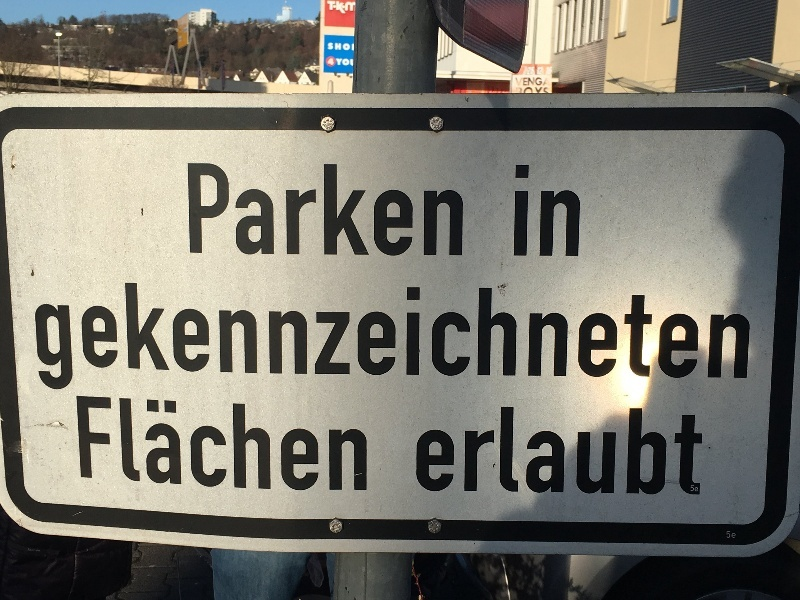text: (49, 283, 64, 392), (65, 283, 80, 392), (81, 283, 96, 392), (97, 283, 112, 392), (113, 283, 128, 392), (129, 283, 144, 392), (145, 283, 160, 392), (161, 283, 176, 392), (177, 283, 192, 392), (193, 283, 208, 392), (209, 283, 224, 392), (225, 283, 240, 392), (241, 283, 256, 392), (257, 283, 272, 392), (273, 283, 288, 392), (289, 283, 304, 392), (305, 283, 320, 392), (321, 283, 336, 392), (337, 283, 352, 392), (353, 283, 368, 392), (369, 283, 384, 392), (385, 283, 400, 392), (401, 283, 416, 392), (417, 283, 432, 392), (433, 283, 448, 392), (449, 283, 464, 392), (465, 283, 480, 392), (481, 283, 496, 392), (497, 283, 512, 392), (513, 283, 528, 392), (529, 283, 544, 392), (545, 283, 560, 392), (561, 283, 576, 392), (577, 283, 592, 392), (593, 283, 608, 392), (609, 283, 624, 392), (625, 283, 640, 392), (641, 283, 656, 392), (657, 283, 672, 392), (673, 283, 688, 392), (689, 283, 704, 392), (705, 283, 720, 392), (721, 283, 736, 392), (737, 283, 752, 392), (34, 283, 48, 392), (81, 396, 96, 496), (97, 396, 112, 496), (113, 396, 128, 496), (129, 396, 144, 496), (145, 396, 160, 496), (161, 396, 176, 496), (177, 396, 192, 496), (193, 396, 208, 496), (209, 396, 224, 496), (225, 396, 240, 496), (241, 396, 256, 496), (257, 396, 272, 496), (273, 396, 288, 496), (289, 396, 304, 496), (305, 396, 320, 496), (321, 396, 336, 496), (337, 396, 352, 496), (353, 396, 368, 496), (193, 162, 208, 257), (209, 162, 224, 257), (225, 162, 240, 257), (241, 162, 256, 257), (257, 162, 272, 257), (273, 162, 288, 257), (289, 162, 304, 257), (305, 162, 320, 257), (321, 162, 336, 257), (337, 162, 352, 257), (353, 162, 368, 257), (369, 162, 384, 257), (385, 162, 400, 257), (401, 162, 416, 257), (417, 162, 432, 257), (433, 162, 448, 257), (529, 165, 544, 259), (545, 165, 560, 259), (561, 165, 576, 259), (433, 407, 448, 497), (449, 407, 464, 497), (465, 407, 480, 497), (481, 407, 496, 497), (497, 407, 512, 497), (513, 407, 528, 497), (529, 407, 544, 497), (545, 407, 560, 497), (561, 407, 576, 497), (577, 407, 592, 497), (593, 407, 608, 497), (609, 407, 624, 497), (625, 407, 640, 497), (641, 407, 656, 497), (657, 407, 672, 497), (673, 407, 688, 497), (689, 407, 704, 497), (449, 162, 463, 257), (419, 407, 432, 497), (516, 165, 528, 259), (577, 165, 583, 259), (76, 396, 80, 496), (188, 162, 192, 257), (337, 1, 352, 15), (337, 58, 352, 67), (529, 66, 544, 75), (327, 1, 336, 15), (337, 43, 352, 51), (529, 78, 544, 86), (529, 87, 544, 94), (516, 78, 528, 86), (691, 485, 704, 492), (516, 87, 528, 94), (328, 58, 336, 66), (727, 531, 736, 538), (545, 66, 552, 75), (329, 43, 336, 51), (353, 1, 356, 15), (524, 66, 528, 75), (545, 78, 549, 86), (545, 87, 549, 94), (353, 58, 354, 67), (353, 43, 354, 51)
